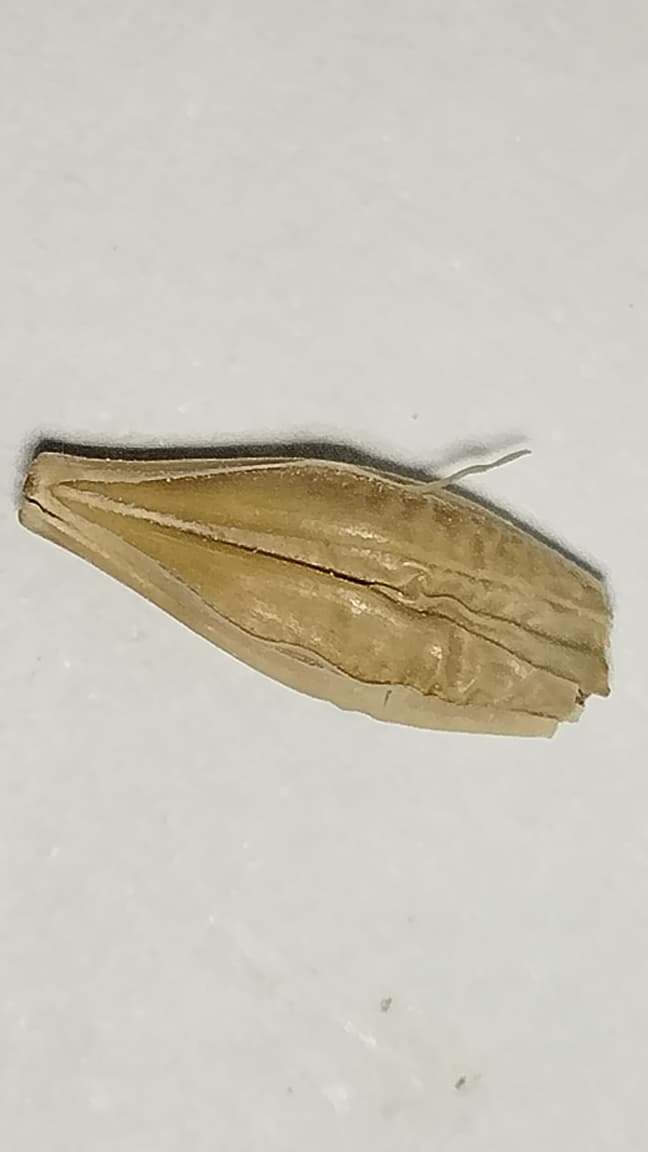healthy-70-60: (20, 452, 609, 735)
